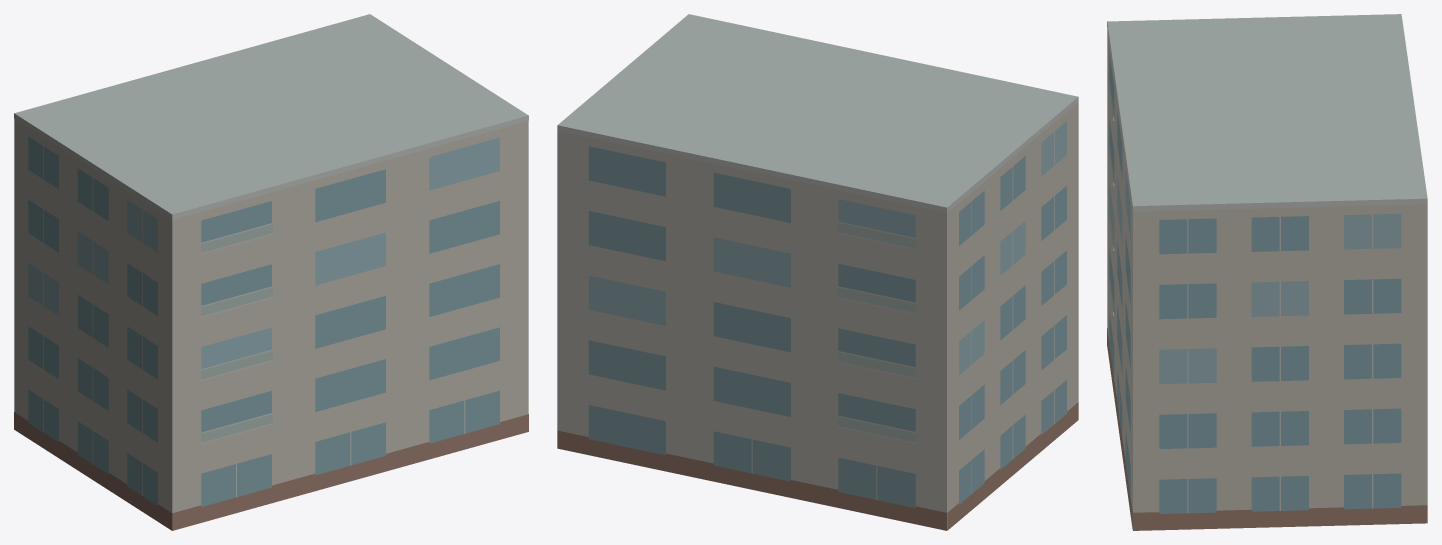
Rendered from survey-upis-32636511.glb.
3 views of the same model, side by side, from view 1: azimuth 30°, elevation 25°; view 2: azimuth 150°, elevation 25°; view 3: azimuth 270°, elevation 25° (orthographic). The views are drawn at different scales.
Parts seen in each view (by area): view 1: survey-upis-32636511.tmp; view 2: survey-upis-32636511.tmp; view 3: survey-upis-32636511.tmp.
Part boxes in pixels (x1,y1,x2,y2): survey-upis-32636511.tmp: (14,14,528,530); survey-upis-32636511.tmp: (557,14,1078,530); survey-upis-32636511.tmp: (1107,14,1427,530).
Bounding box in the file's own units: 18.29 × 14.4 × 12.89.
